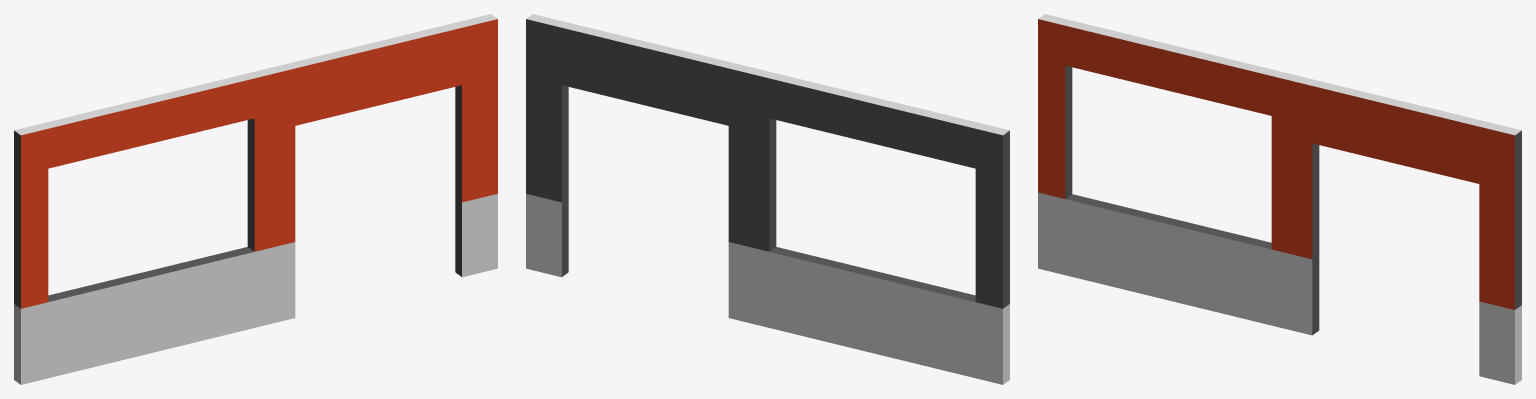
File: 大厦崩塌补.fbx
3 renders of one model, left to right at view 1: azimuth 30°, elevation 25°; view 2: azimuth 150°, elevation 25°; view 3: azimuth 330°, elevation 25°, orthographic.
Parts seen in each view (by area): view 1: 平面.001; view 2: 平面.001; view 3: 平面.001.
Part boxes in pixels (x1,y1,x2,y2): 平面.001: (14,14,497,384); 平面.001: (526,14,1009,384); 平面.001: (1038,14,1521,384).
Size of the model in its own units: 4 by 2 by 0.1.
